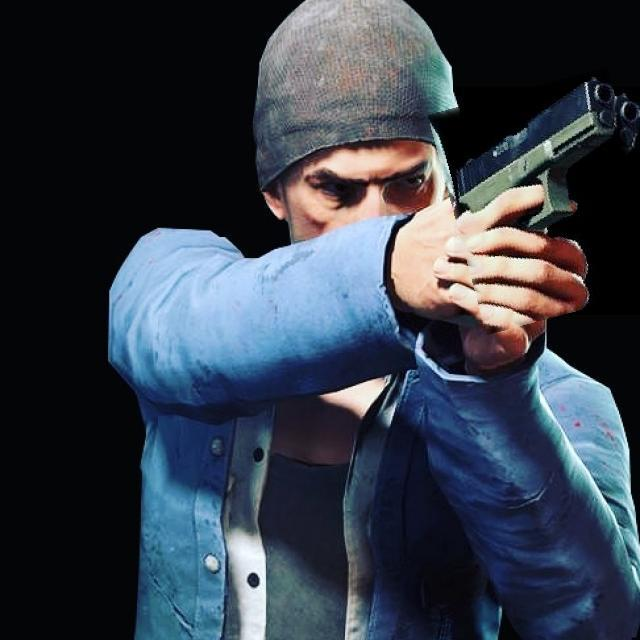handgun: (441, 77, 640, 325)
